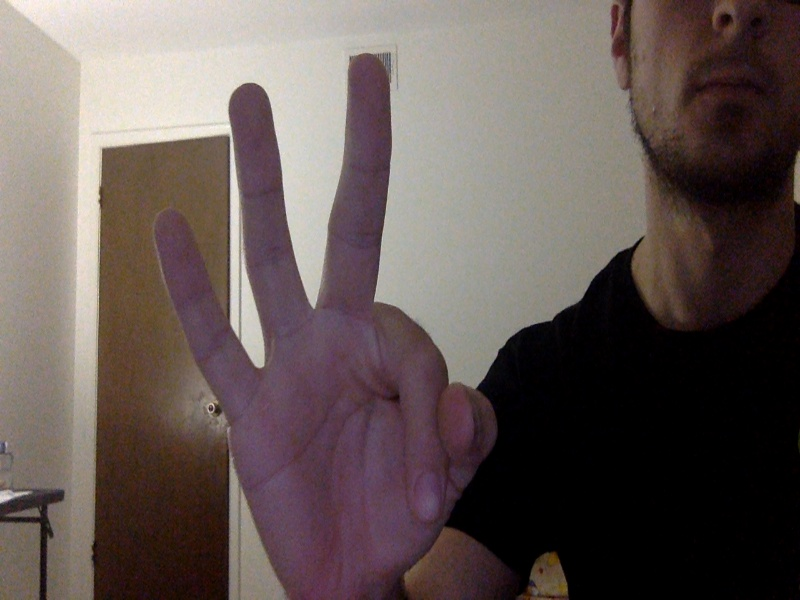3-hand: (153, 55, 494, 585)
